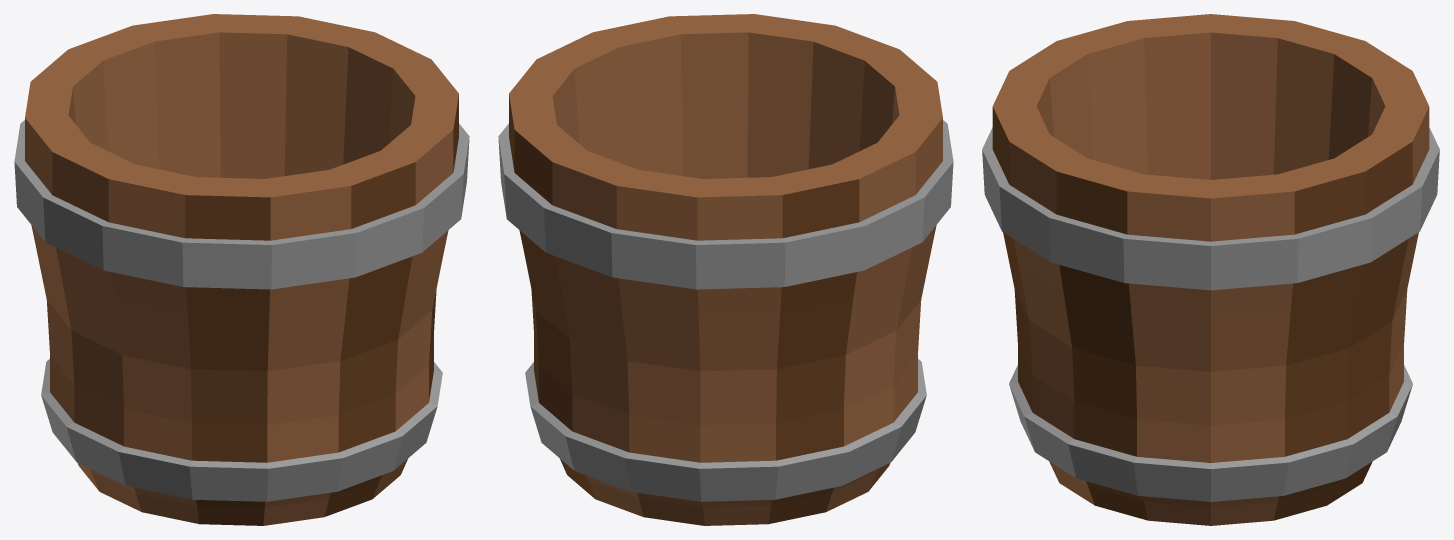
The model's file is Galleda.fbx.
3 views of the same model, side by side, from view 1: azimuth 30°, elevation 25°; view 2: azimuth 150°, elevation 25°; view 3: azimuth 270°, elevation 25° (orthographic).
Parts seen in each view (by area): view 1: Cylinder.001; view 2: Cylinder.001; view 3: Cylinder.001.
Boxes of the visible parts, x1,y1,x2,y2 form: Cylinder.001: [14, 14, 469, 525]; Cylinder.001: [498, 14, 953, 525]; Cylinder.001: [982, 14, 1439, 525].
Size of the model in its own units: 1.91 by 1.61 by 1.91.
